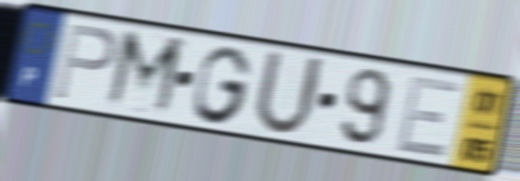9: (338, 67, 394, 149)
E: (392, 73, 465, 162)
G: (190, 43, 255, 127)
M: (100, 26, 189, 122)
P: (50, 19, 120, 103)
U: (249, 46, 328, 140)
